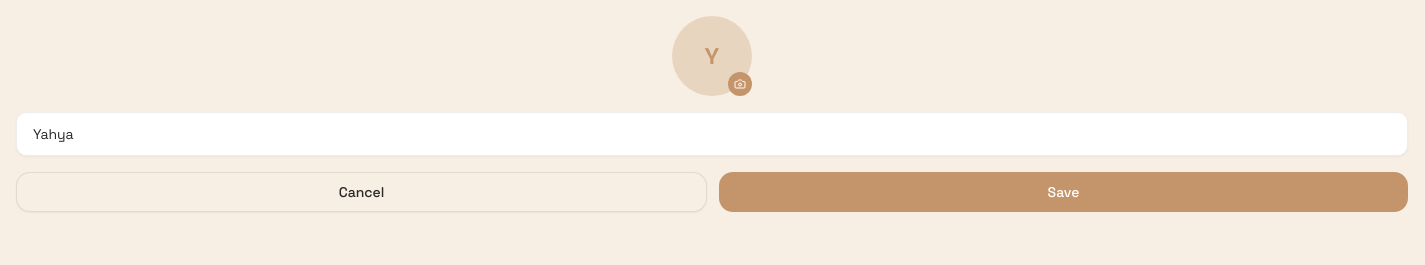
Scenario: ProfileEditForm › shows error on profile update failure
Click the button "Save". click: {"x": 1064, "y": 192}
box: [719, 172, 1408, 212]
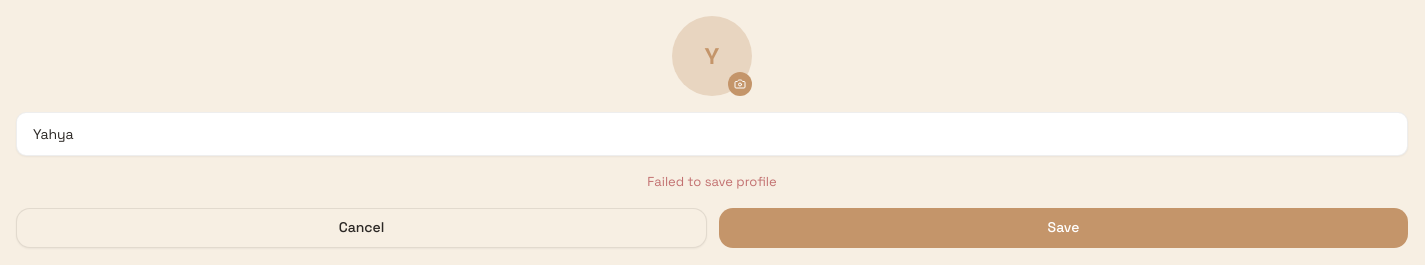
Check: the text "Failed to save profile" is shown, box [647, 173, 777, 190]
